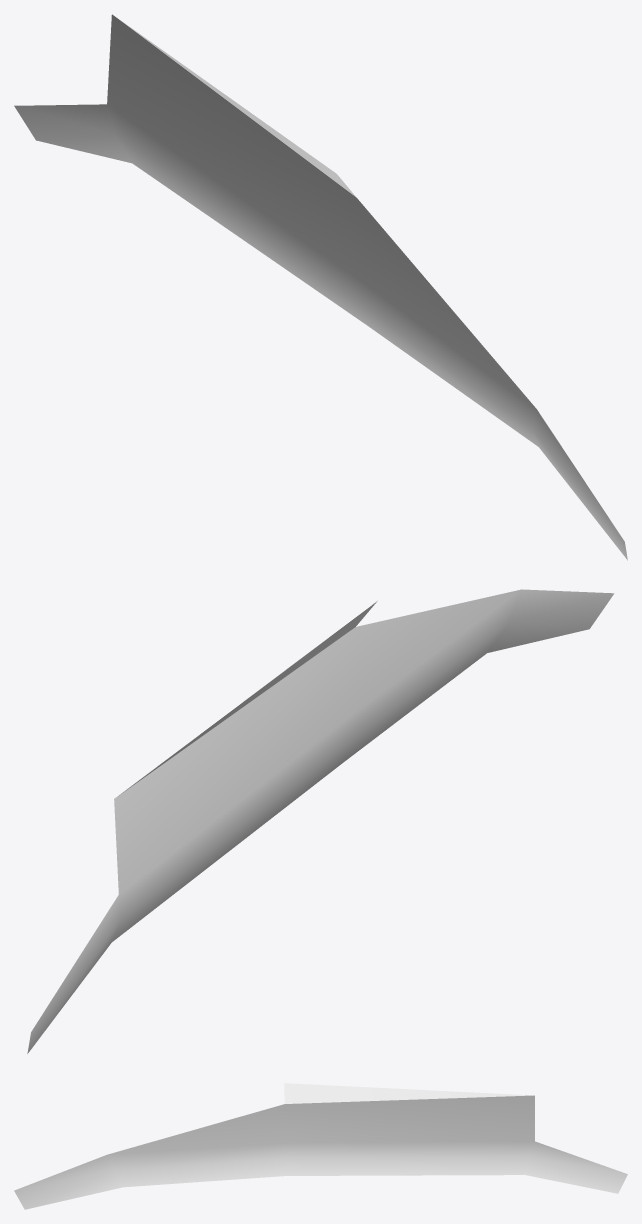
3 renders of one model, top to bottom at view 1: azimuth 30°, elevation 25°; view 2: azimuth 150°, elevation 25°; view 3: azimuth 270°, elevation 25°, orthographic. The views are drawn at different scales.
Size of the model in its own units: 0.0214 by 0.0907 by 0.4389.
1 material, 1 textured.
